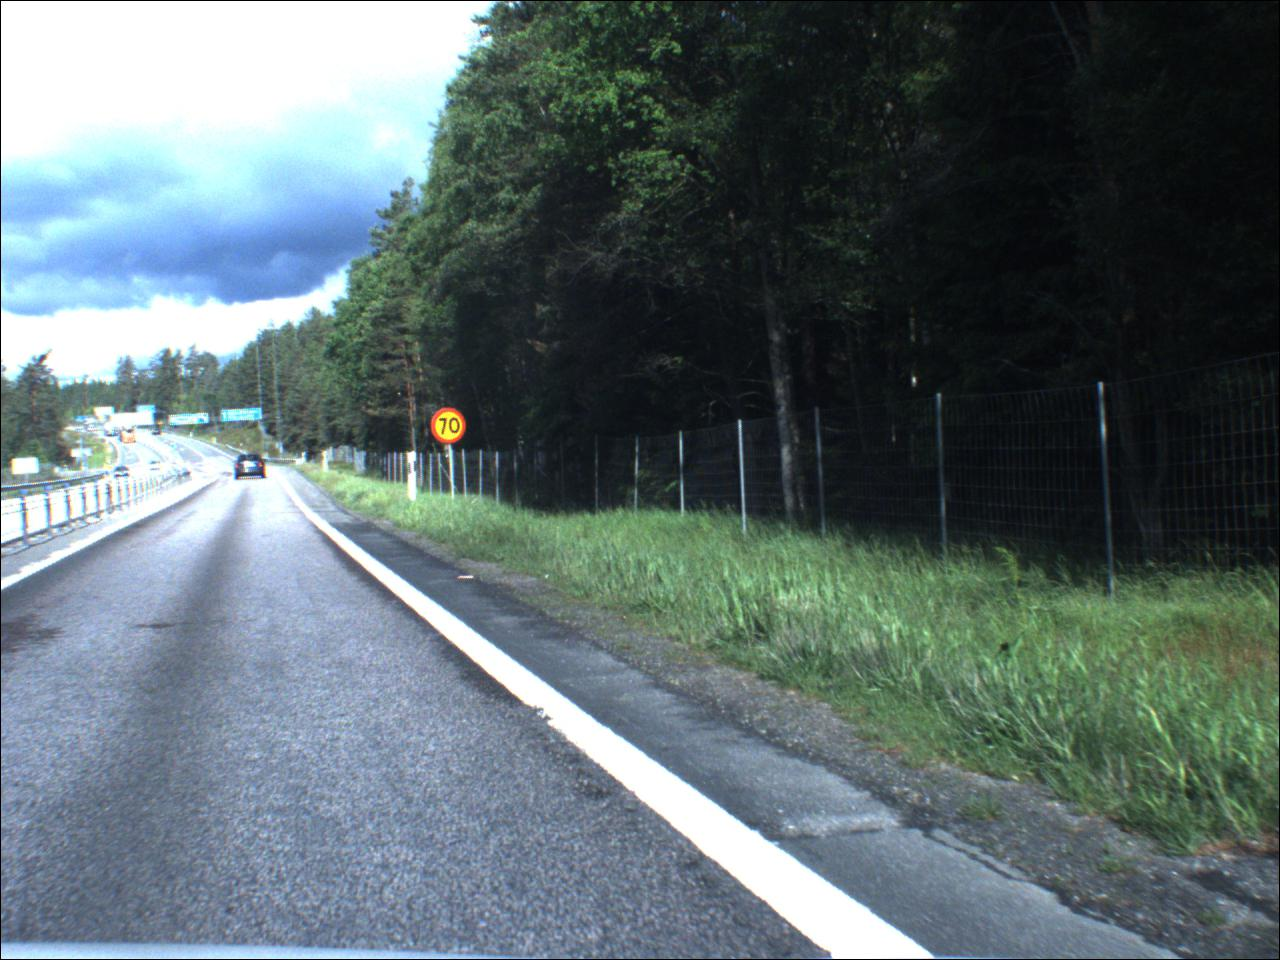70_SIGN: (431, 408, 470, 447)
